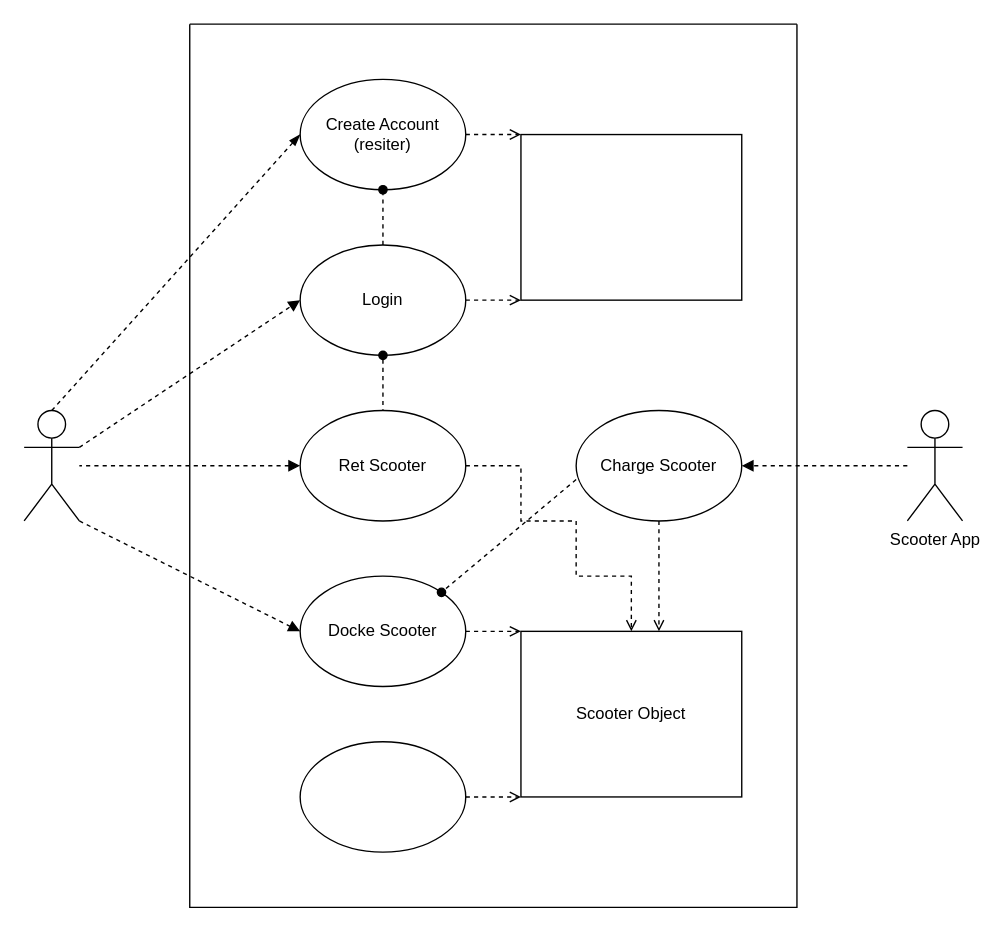
Image size: 1003x932. Some labels were removed from this diagram. Each missing label, with the centre of its shape:
Request repair: the point at 382,796
User: the point at 51,465
User Object: the point at 631,216
